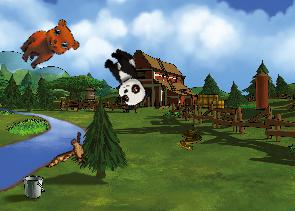bear: (14, 12, 84, 81)
eagle: (45, 124, 97, 182)
panda: (97, 44, 155, 111)
